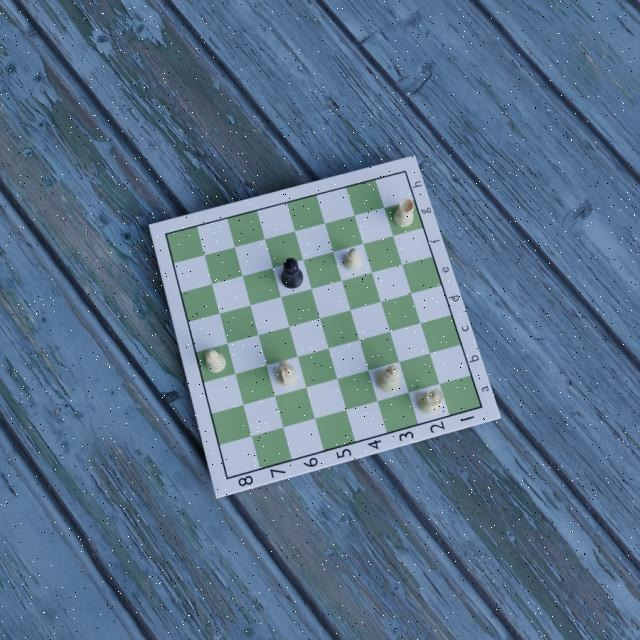black-king: (279, 256, 304, 290)
white-bishop: (204, 346, 228, 373)
white-king: (376, 362, 402, 395)
white-knight: (276, 358, 296, 390)
white-pawn: (344, 246, 363, 272)
white-queen: (417, 387, 443, 417)
white-rook: (392, 196, 415, 227)
